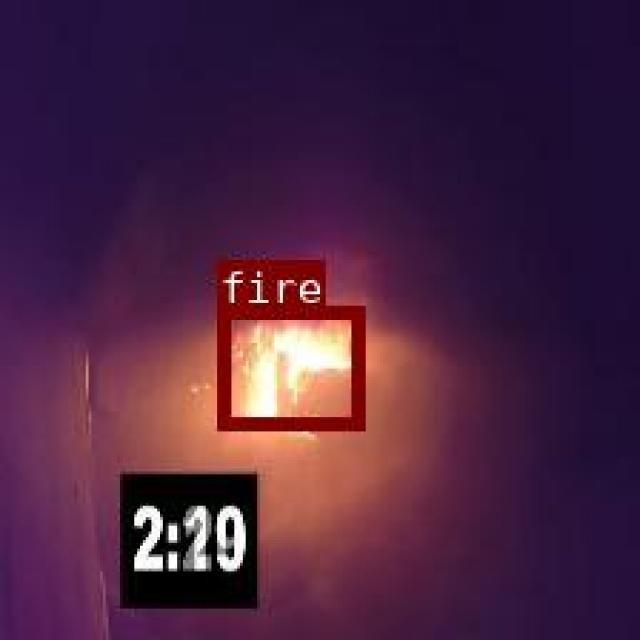fire: (216, 304, 362, 428)
